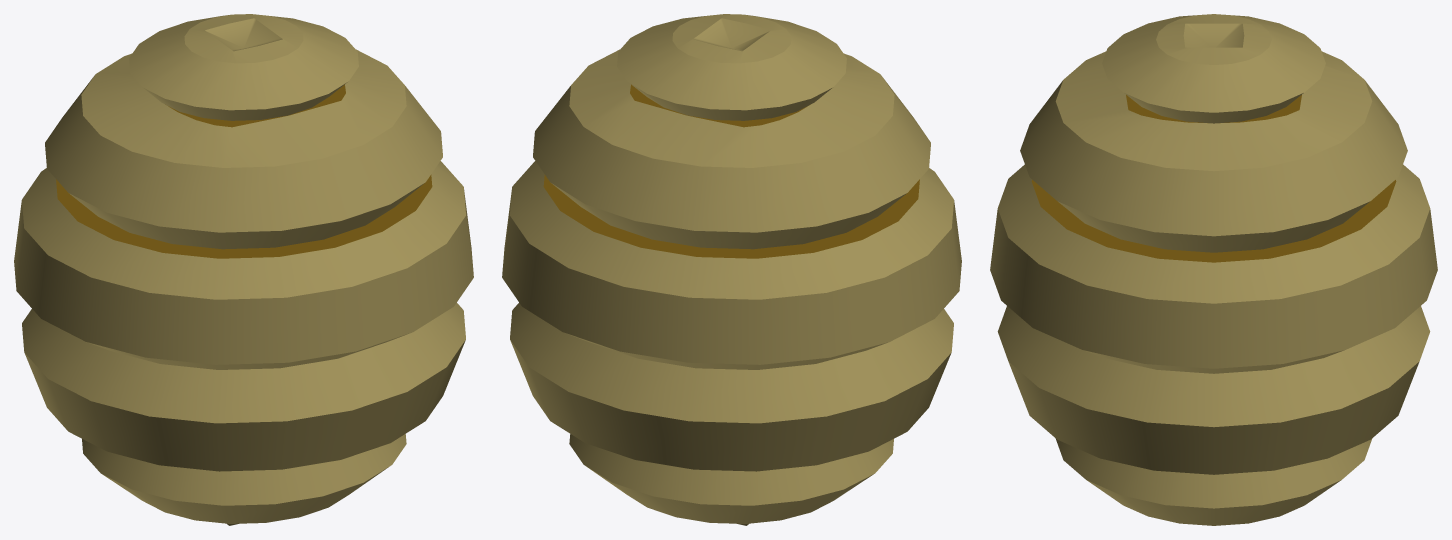
Rendered from beehive1.fbx.
The picture shows the model from 3 angles, left to right: view 1: azimuth 30°, elevation 25°; view 2: azimuth 150°, elevation 25°; view 3: azimuth 270°, elevation 25°; orthographic projection.
Visible parts, largest first — view 1: pSphere1; view 2: pSphere1; view 3: pSphere1.
Part boxes in pixels (box(x1,y1,x2,y2)): pSphere1: box(14, 14, 473, 525); pSphere1: box(502, 14, 961, 525); pSphere1: box(990, 14, 1437, 525).
Size of the model in its own units: 5.56 by 6.23 by 5.32.
